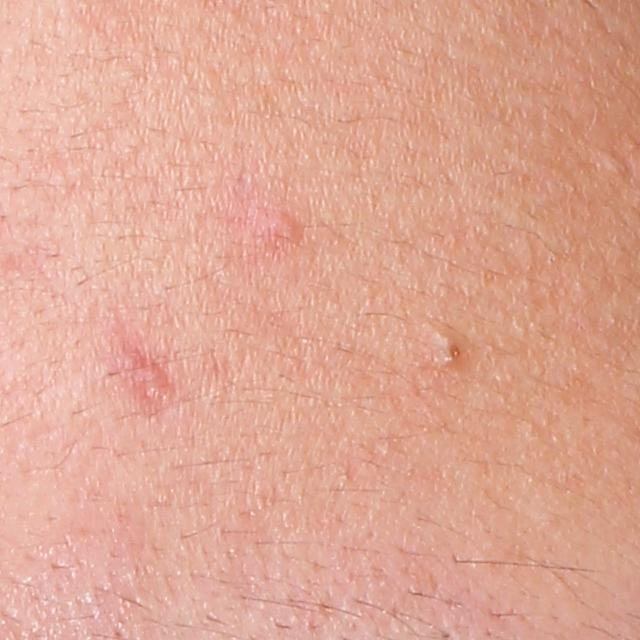comedo: (598, 157, 633, 177)
papule: (246, 201, 305, 257), (119, 351, 160, 401)
